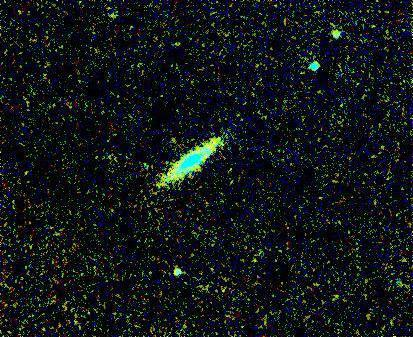star: (321, 21, 351, 51)
